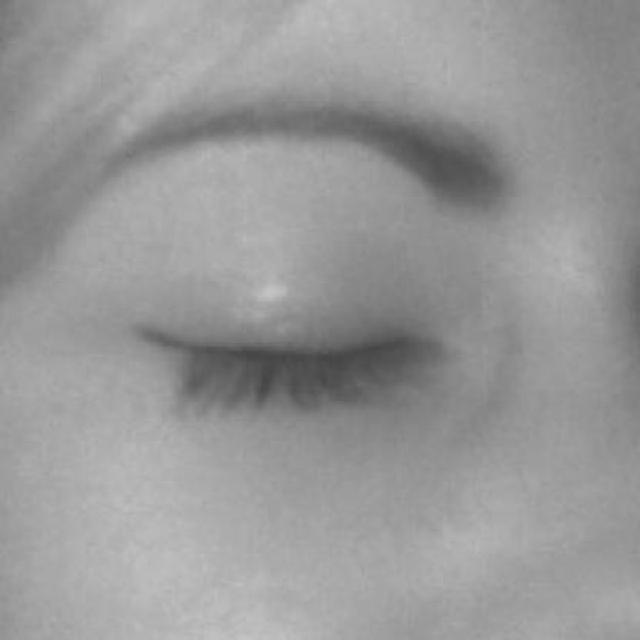drowsy: (132, 215, 448, 519)
